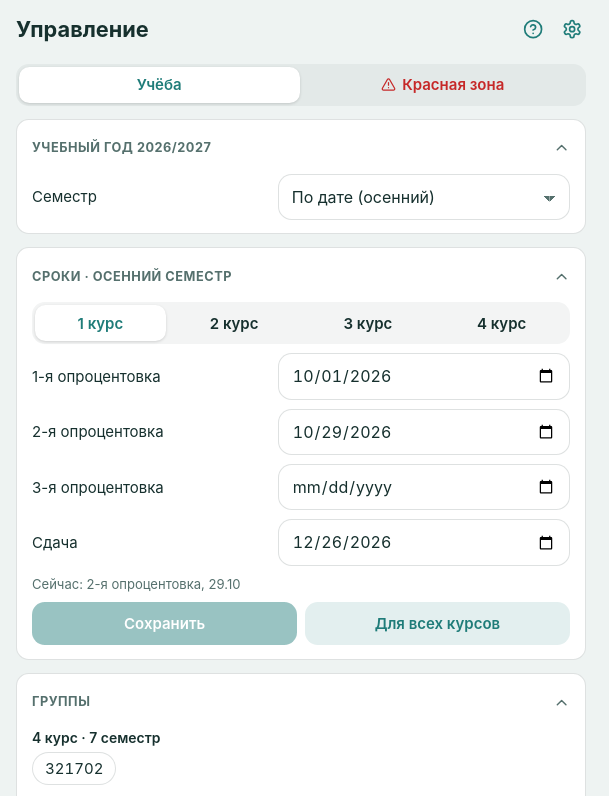
администратор › в настройках — «Администратор», даже без имени, и без лишних пояснений
Click the button titled "Настройки". click: coordinates (572, 29)
box: [553,10,592,49]
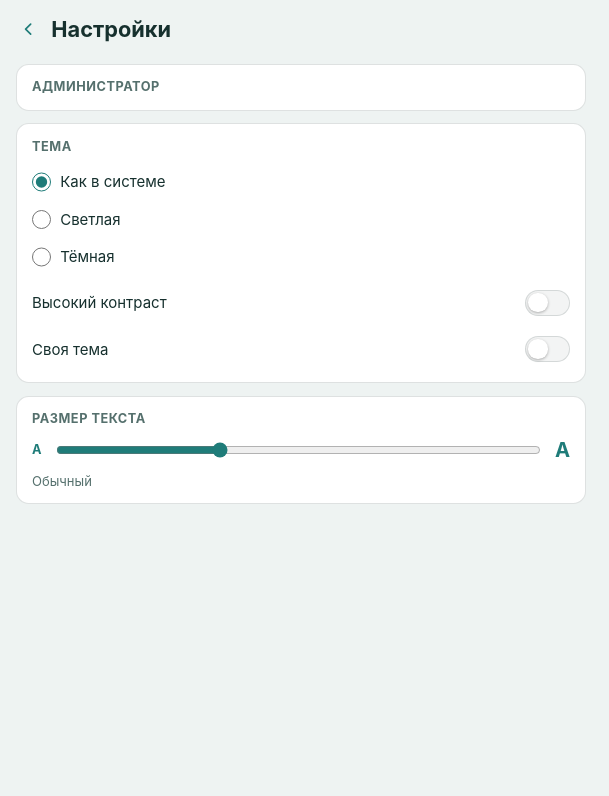
Expected: the text "Администратор" is shown, [32,79,160,94]
